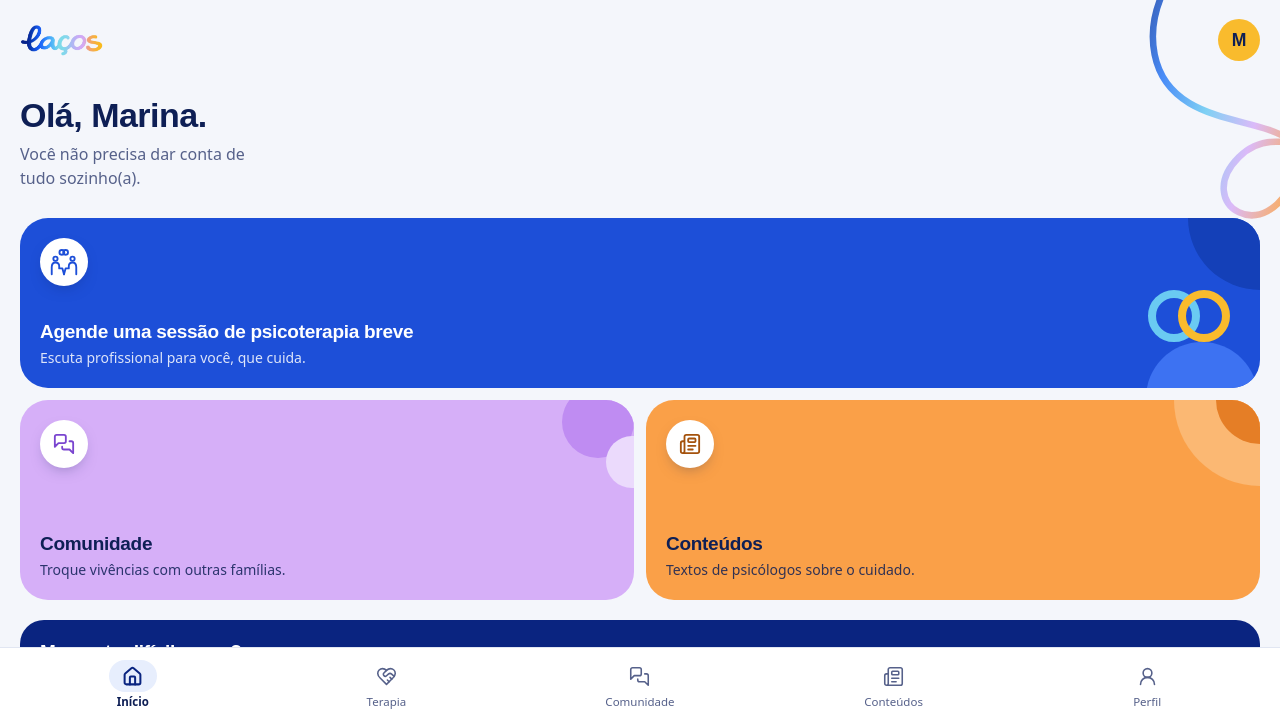
Scenario: Início › abre os três pilares
Click the button "Comunidade Troque vivências com outras famílias.".
click(579, 455)  # box [20,400,634,600]
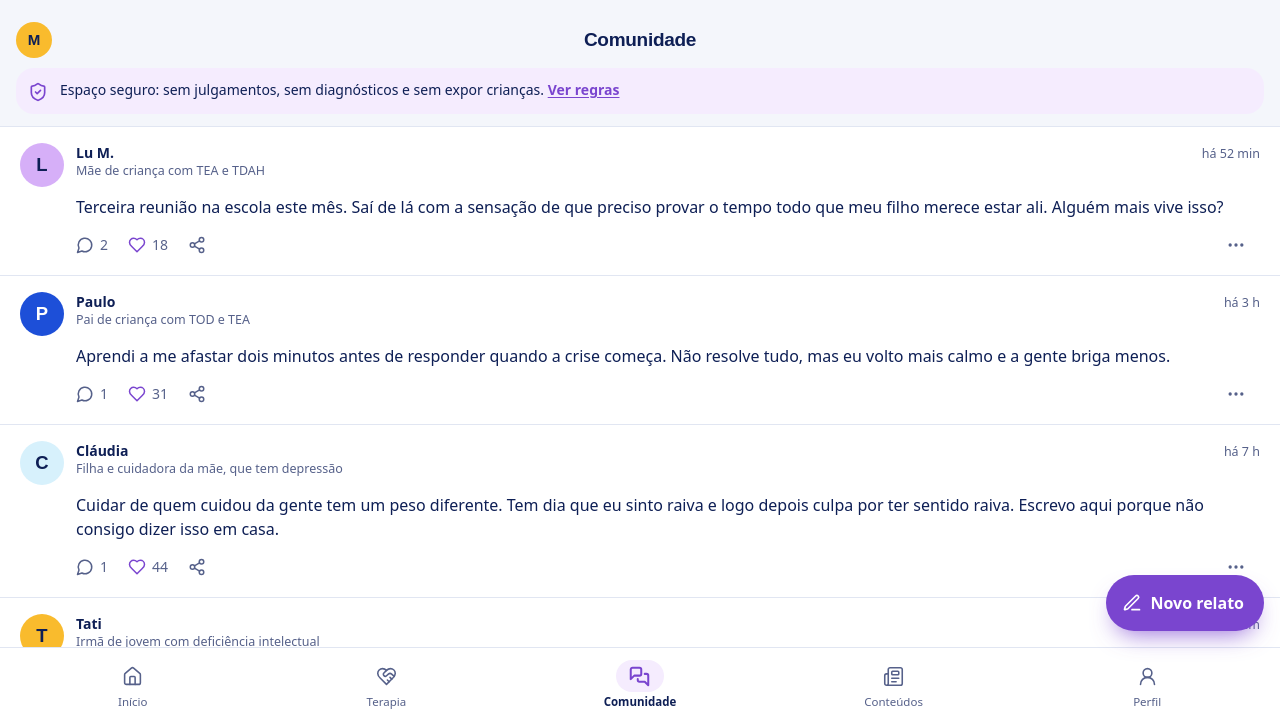
Expected: the heading "Comunidade" is shown, [584,29,696,50]
Click the link "Início".
click(133, 687)  # box [118,666,148,709]
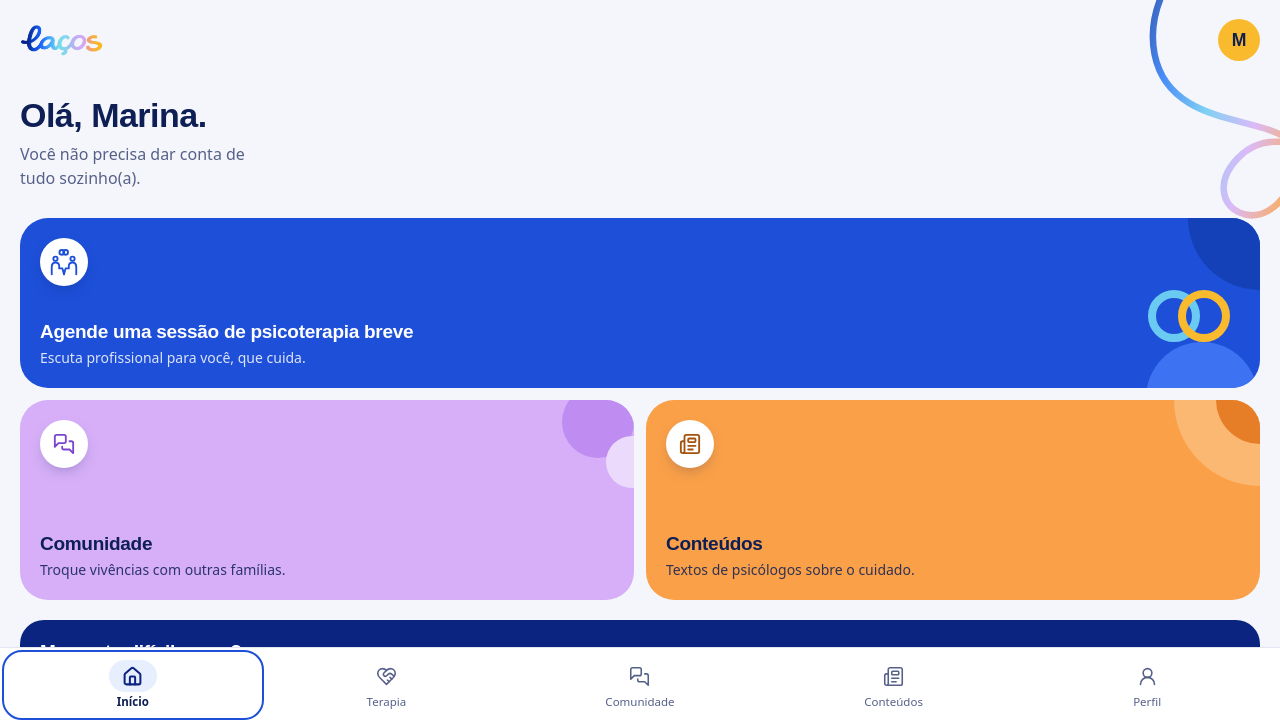
Click the button "Conteúdos Textos de psicólogos sobre o cuidado.".
click(1205, 455)  # box [646,400,1260,600]
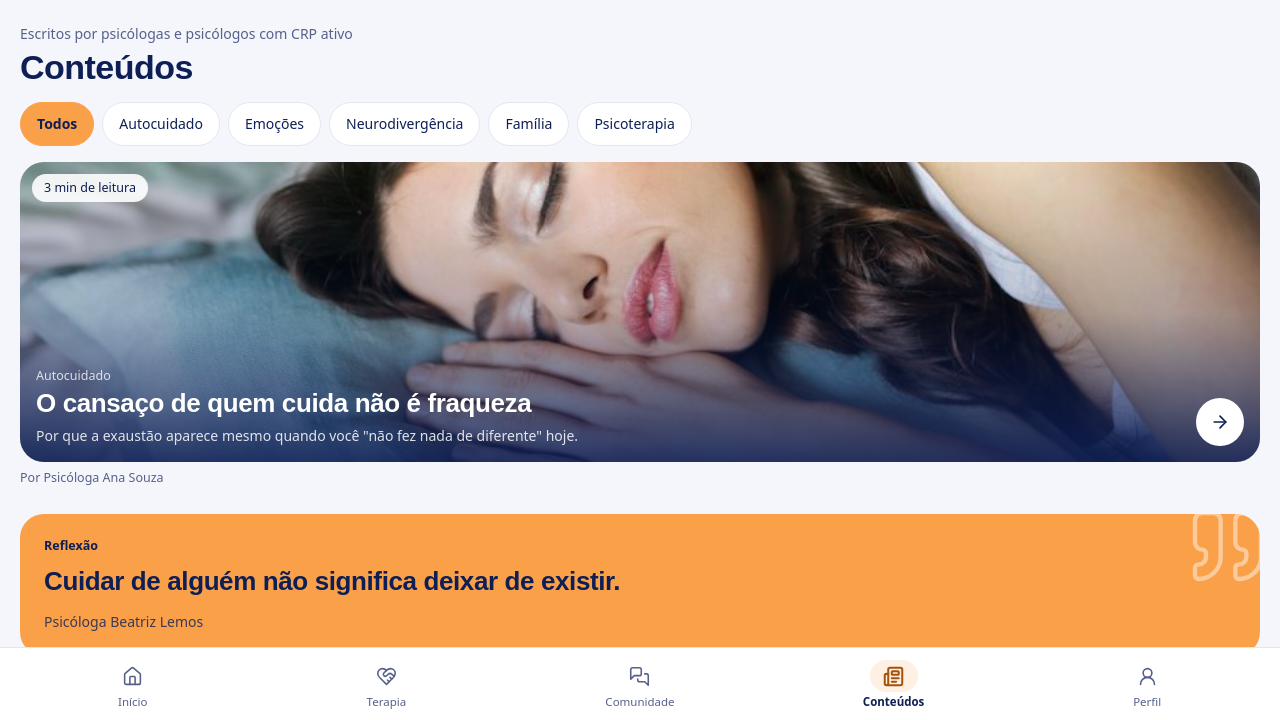
Expected: the heading "Conteúdos" is shown, [20,48,193,86]
Click the link "Início".
click(133, 687)  # box [118,666,148,709]
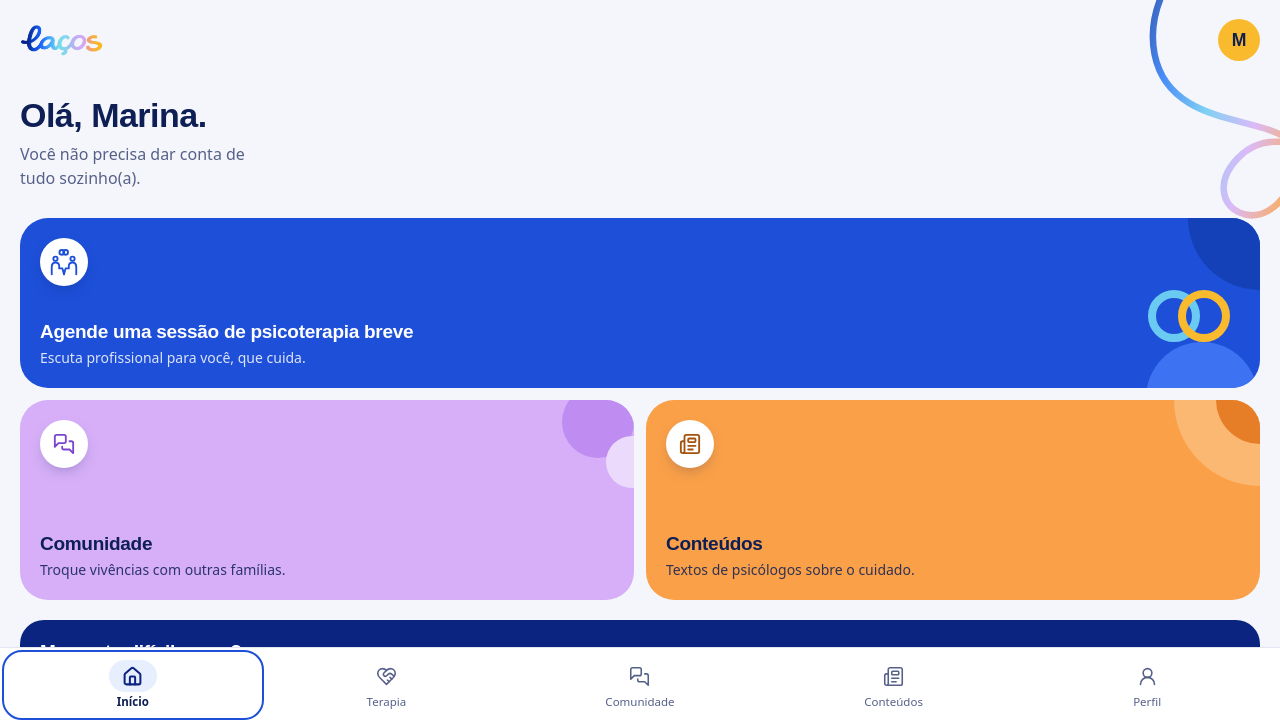
Click the button "Agende uma sessão de psicoterapia breve".
click(640, 303)  # box [20,218,1260,388]
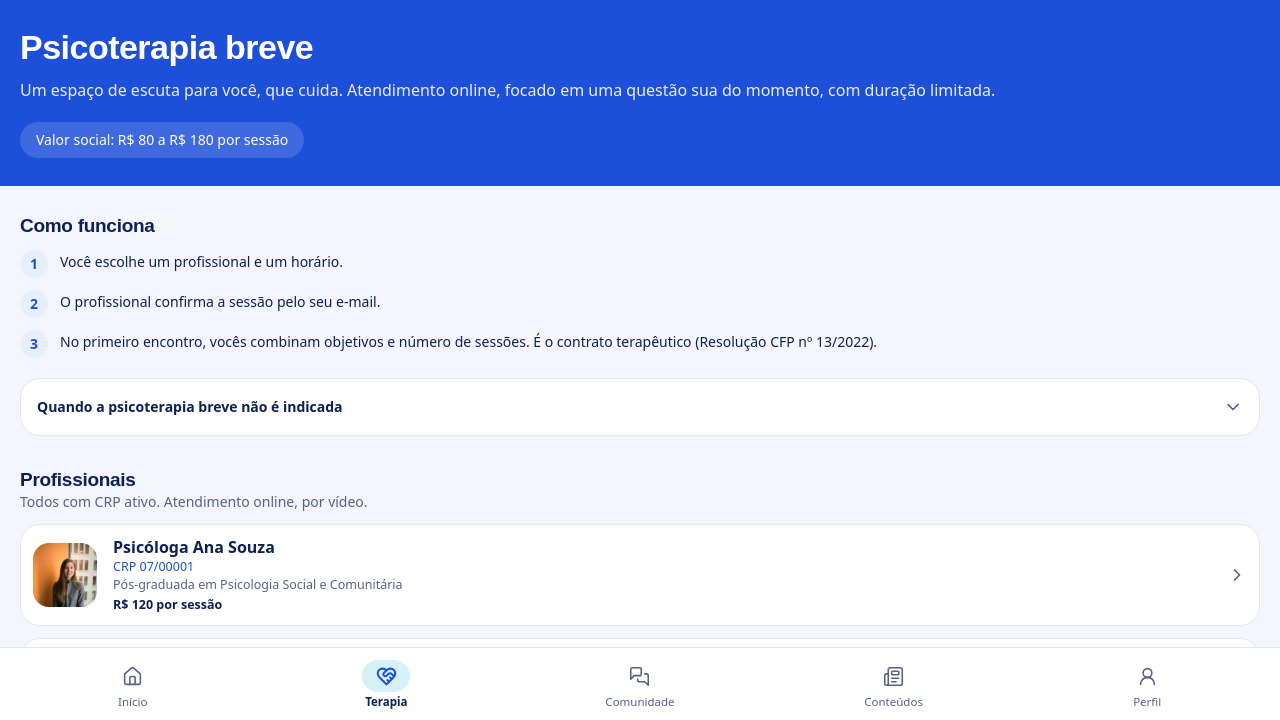
Expected: the heading "Psicoterapia breve" is shown, [20,28,313,66]
